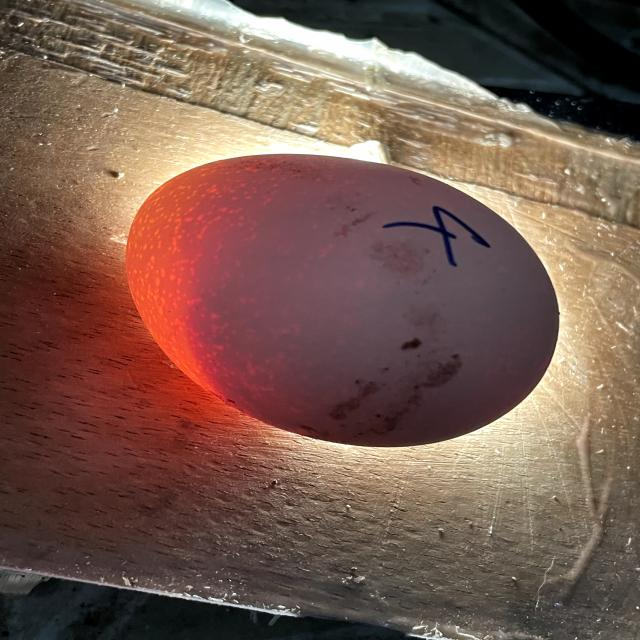fertile: (127, 155, 558, 446)
